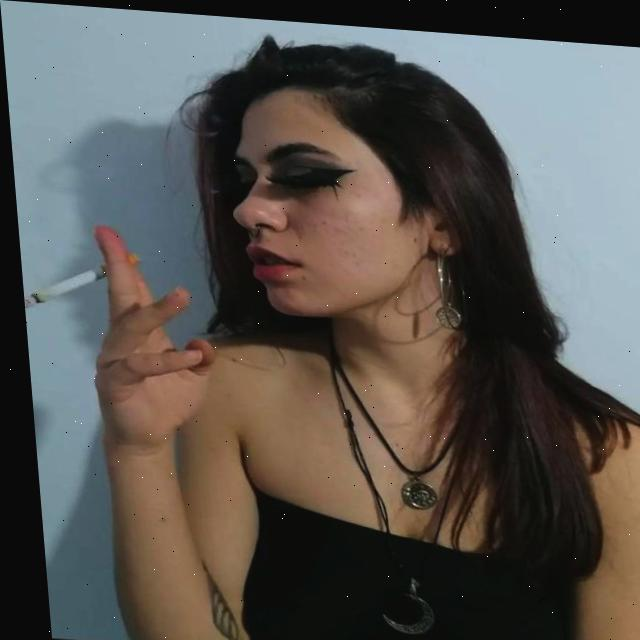cigarette: (16, 243, 140, 313)
